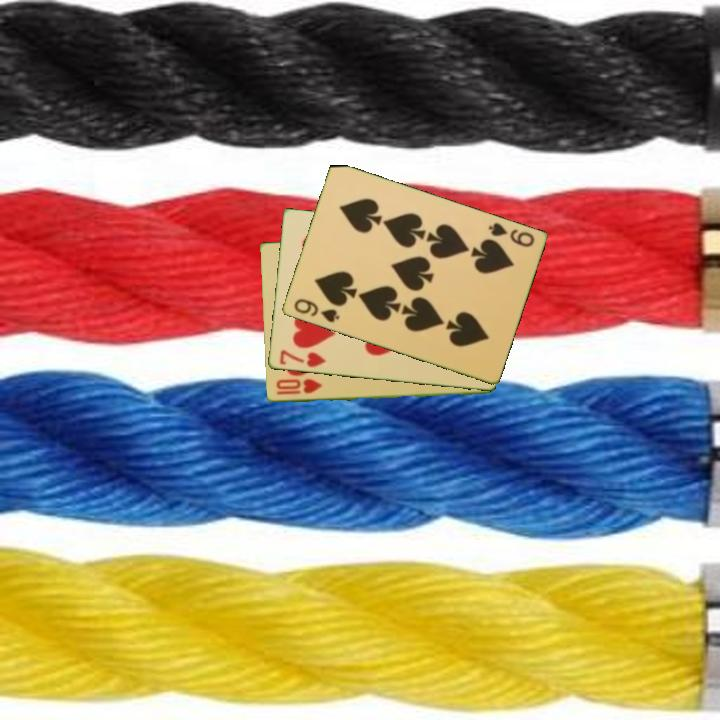10h: (272, 376, 325, 398)
7h: (276, 346, 328, 371)
9s: (484, 219, 537, 250), (290, 295, 342, 326)
